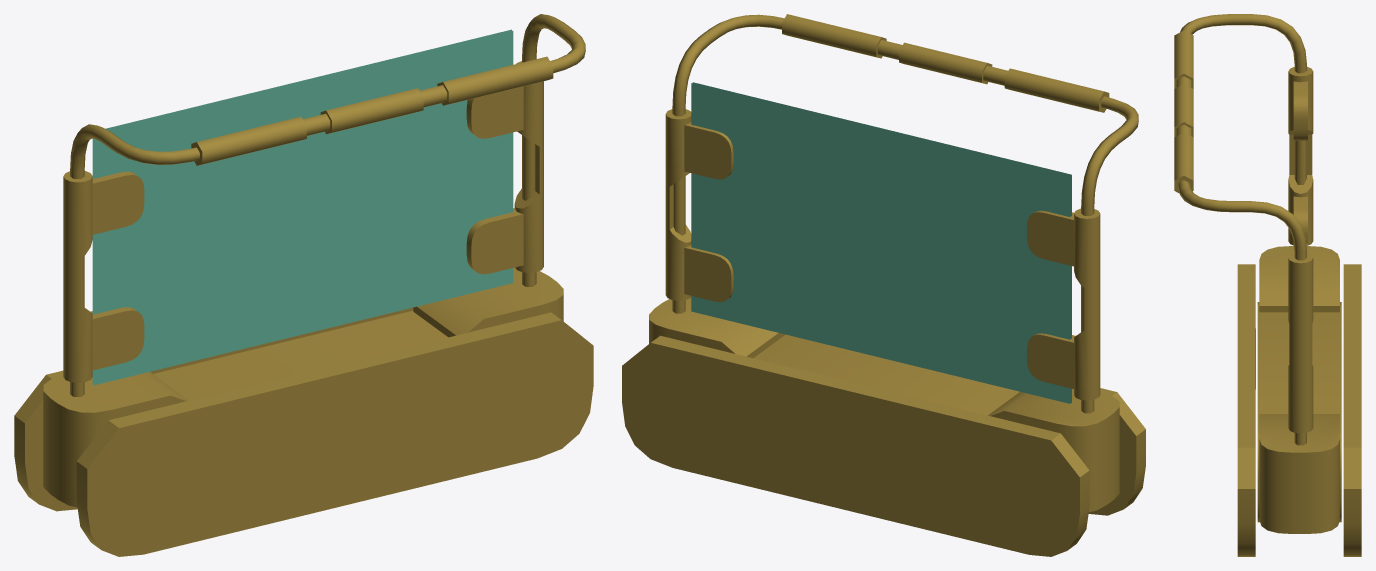
File: Railing_A.FBX
3 views of the same model, side by side, from view 1: azimuth 30°, elevation 25°; view 2: azimuth 150°, elevation 25°; view 3: azimuth 270°, elevation 25° (orthographic). The views are drawn at different scales.
Visible parts, largest first — view 1: Railing_A, Railing_A_Glass; view 2: Railing_A, Railing_A_Glass; view 3: Railing_A.
Part boxes in pixels (left/top/right/bottom): Railing_A: left=14, top=14, right=593, bottom=556; Railing_A_Glass: left=92, top=29, right=513, bottom=385; Railing_A: left=622, top=14, right=1145, bottom=556; Railing_A_Glass: left=691, top=82, right=1071, bottom=403; Railing_A: left=1174, top=14, right=1361, bottom=556.
Size of the model in its own units: 200 by 163 by 75.55.
